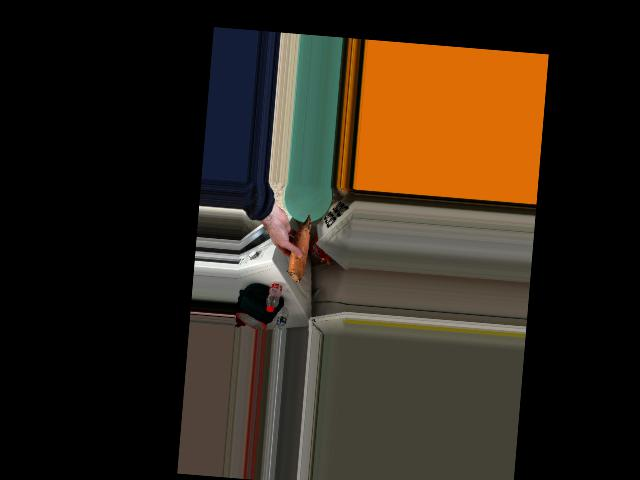sweet_potato: (285, 217, 308, 285)
